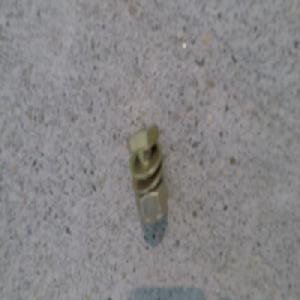BoltNutSet: (130, 125, 166, 217)
